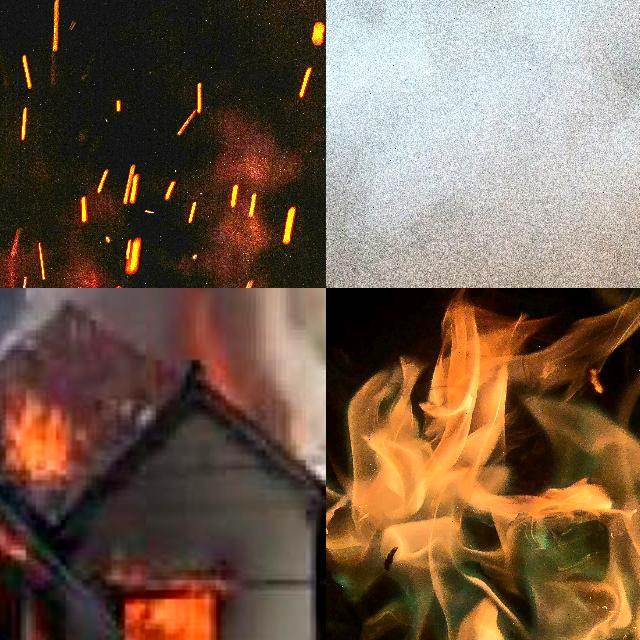fire: (326, 288, 640, 640), (0, 350, 81, 506), (123, 592, 215, 640)
smoke: (326, 0, 640, 288), (134, 288, 326, 451)
